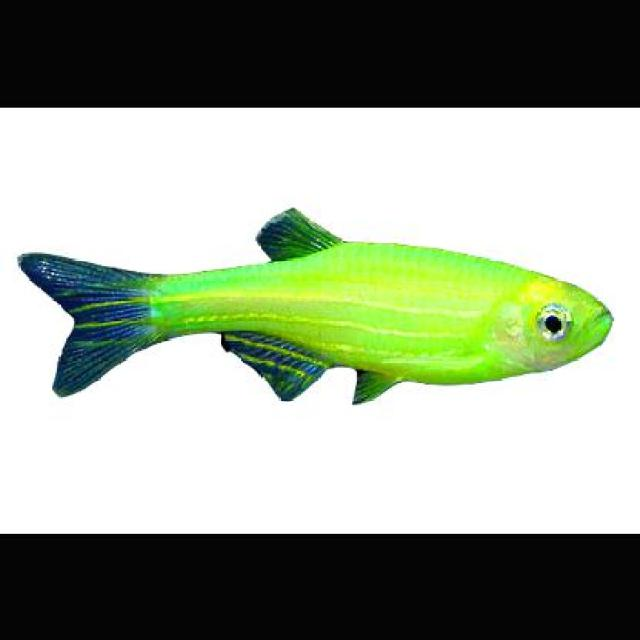ZebraFish: (19, 213, 606, 396)
